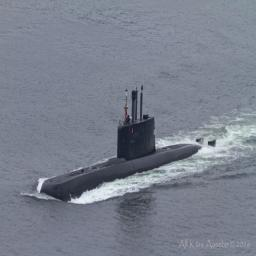submarine: (40, 84, 218, 207)
